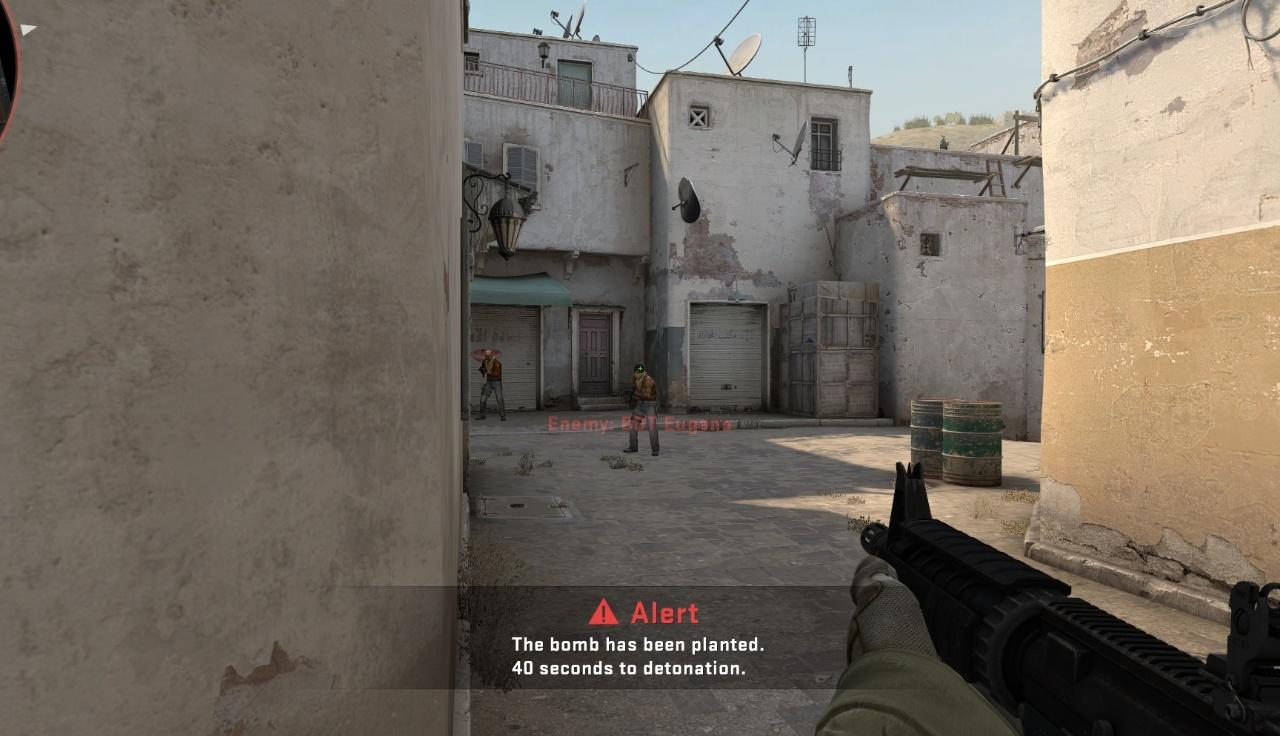rifle: (814, 461, 1280, 736)
tt: (627, 364, 660, 457), (477, 350, 505, 421)
tthead: (634, 365, 645, 379), (484, 350, 492, 361)
